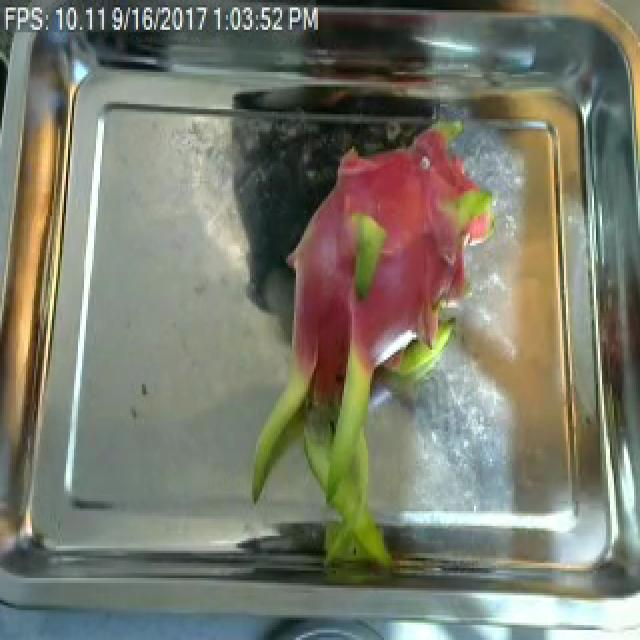fruit: (238, 137, 488, 566)
